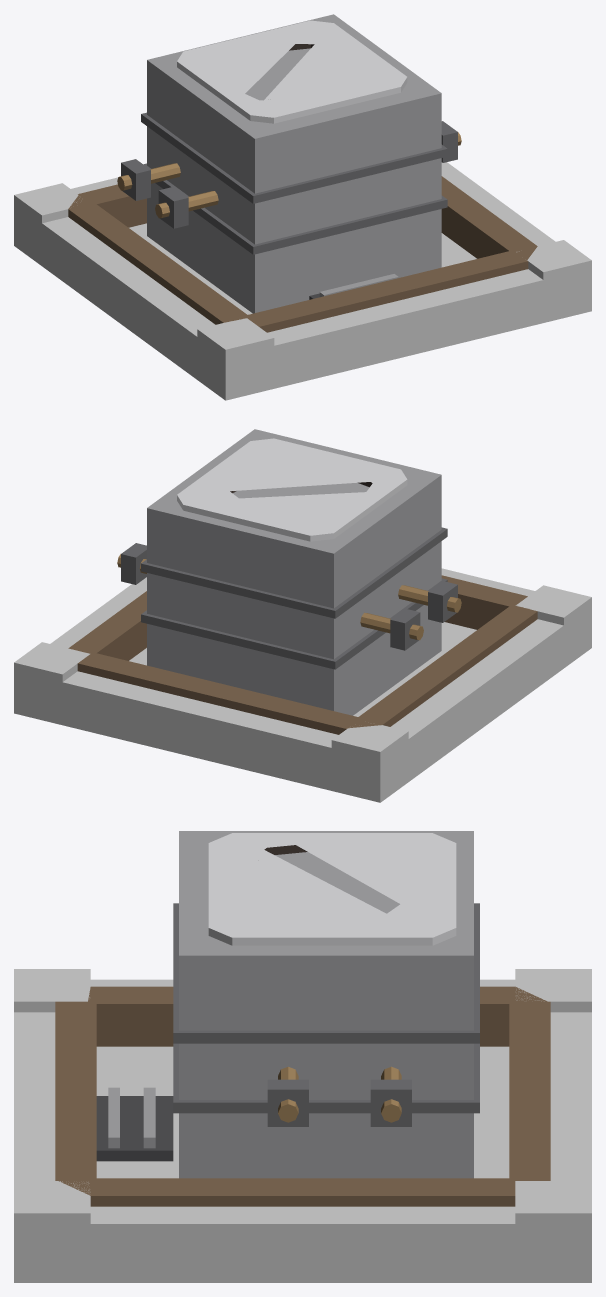
Rendered from vge_d_maintenancehub.obj.
3 renders of one model, top to bottom at view 1: azimuth 30°, elevation 25°; view 2: azimuth 150°, elevation 25°; view 3: azimuth 270°, elevation 25°, orthographic. The views are drawn at different scales.
Parts seen in each view (by area): view 1: vge_d_maintenancehub; view 2: vge_d_maintenancehub; view 3: vge_d_maintenancehub.
Boxes of the visible parts, bbox=[...] form: vge_d_maintenancehub: bbox=[14, 14, 591, 400]; vge_d_maintenancehub: bbox=[14, 429, 591, 802]; vge_d_maintenancehub: bbox=[14, 831, 591, 1282].
Size of the model in its own units: 1.96 by 1.03 by 1.96.
